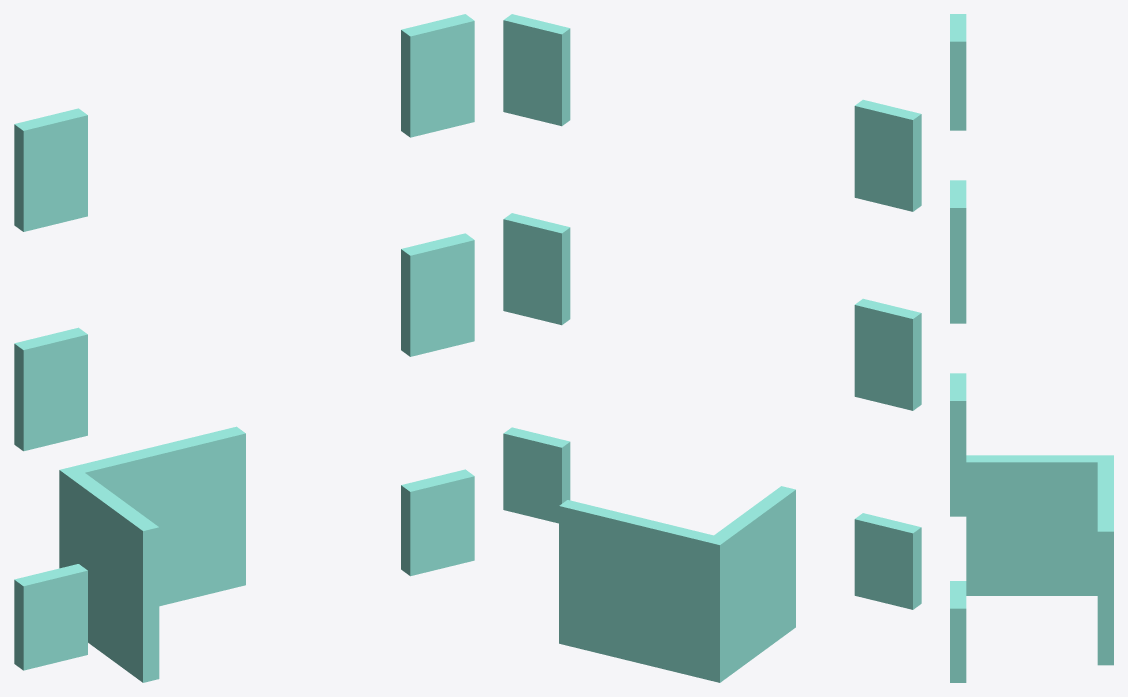
Rendered from immob cordioli 2.0 finestre.obj.
3 renders of one model, left to right at view 1: azimuth 30°, elevation 25°; view 2: azimuth 150°, elevation 25°; view 3: azimuth 270°, elevation 25°, orthographic. The views are drawn at different scales.
Size of the model in its own units: 11.2 by 14 by 4.
Materials: 1 (1 with a texture image).
